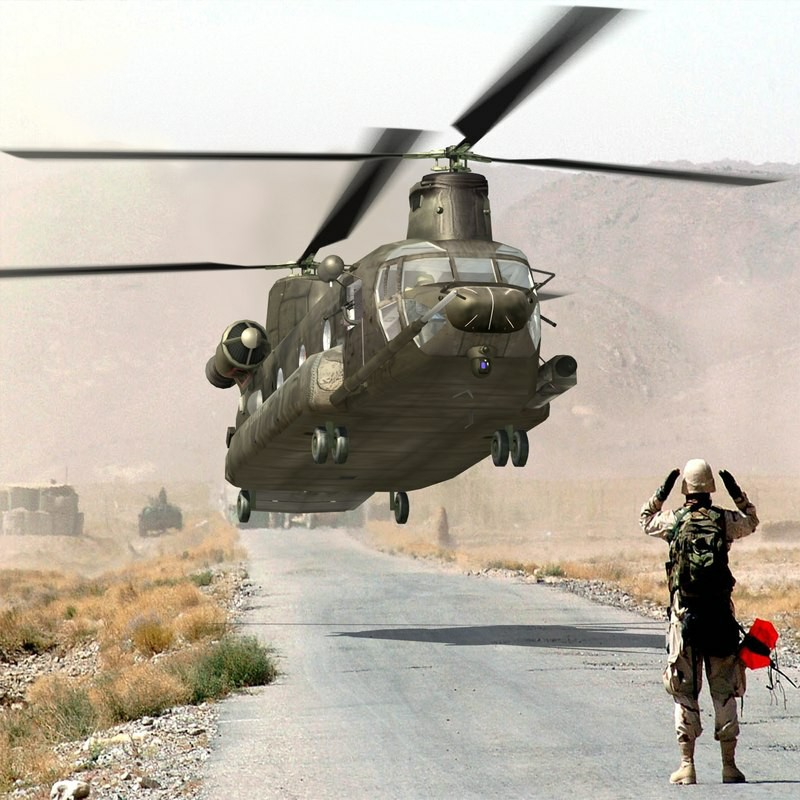chinook: (62, 62, 619, 540)
